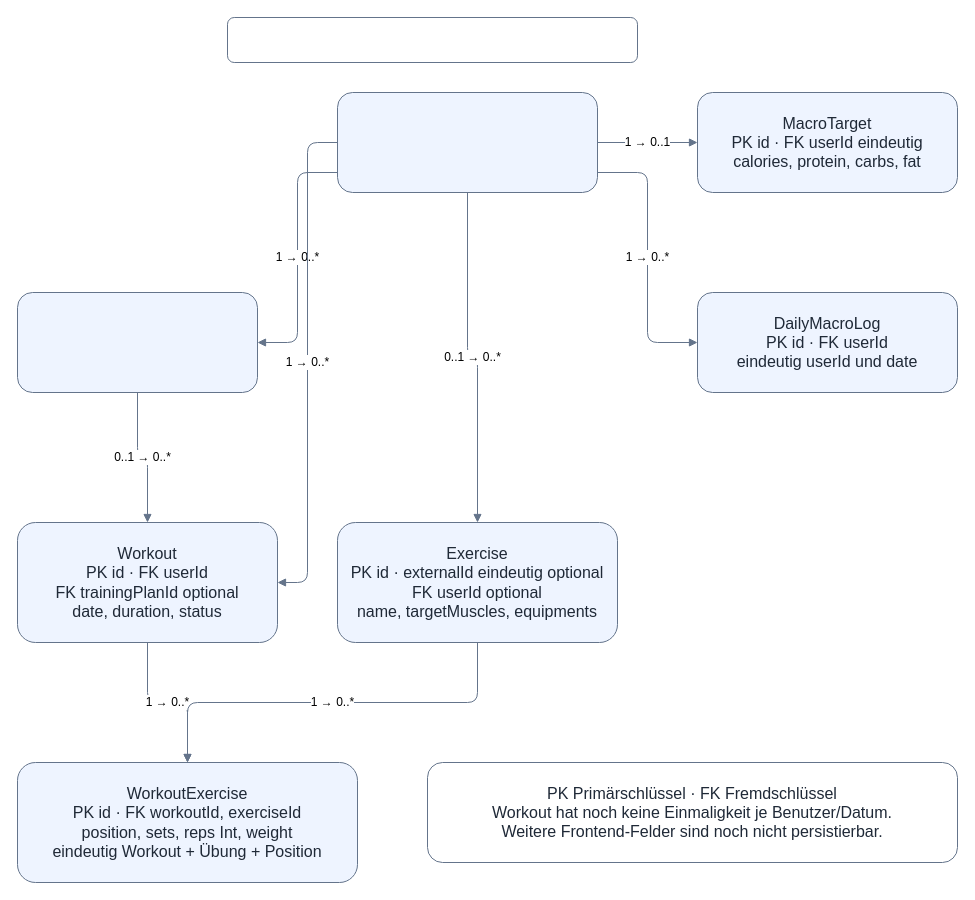
This 975x900 diagram has some shape labels left out. The shapes that lost their labels are listed below. From the top down, each one's centre as x and y in pixels, then its label:
At point (432, 39): "GymBuddy Datenmodell laut Prisma-Schema".
At point (467, 142): "User PK id username, email eindeutig".
At point (137, 342): "TrainingPlan PK id · FK userId name, isActive".
